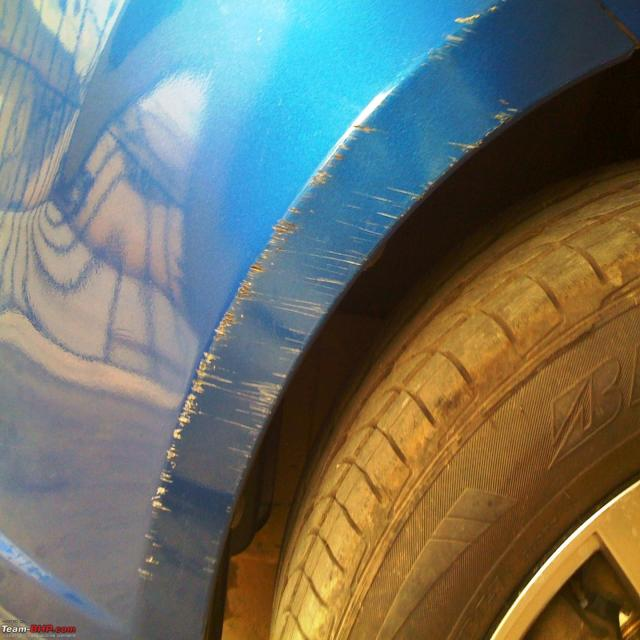scratch: (134, 0, 524, 592)
